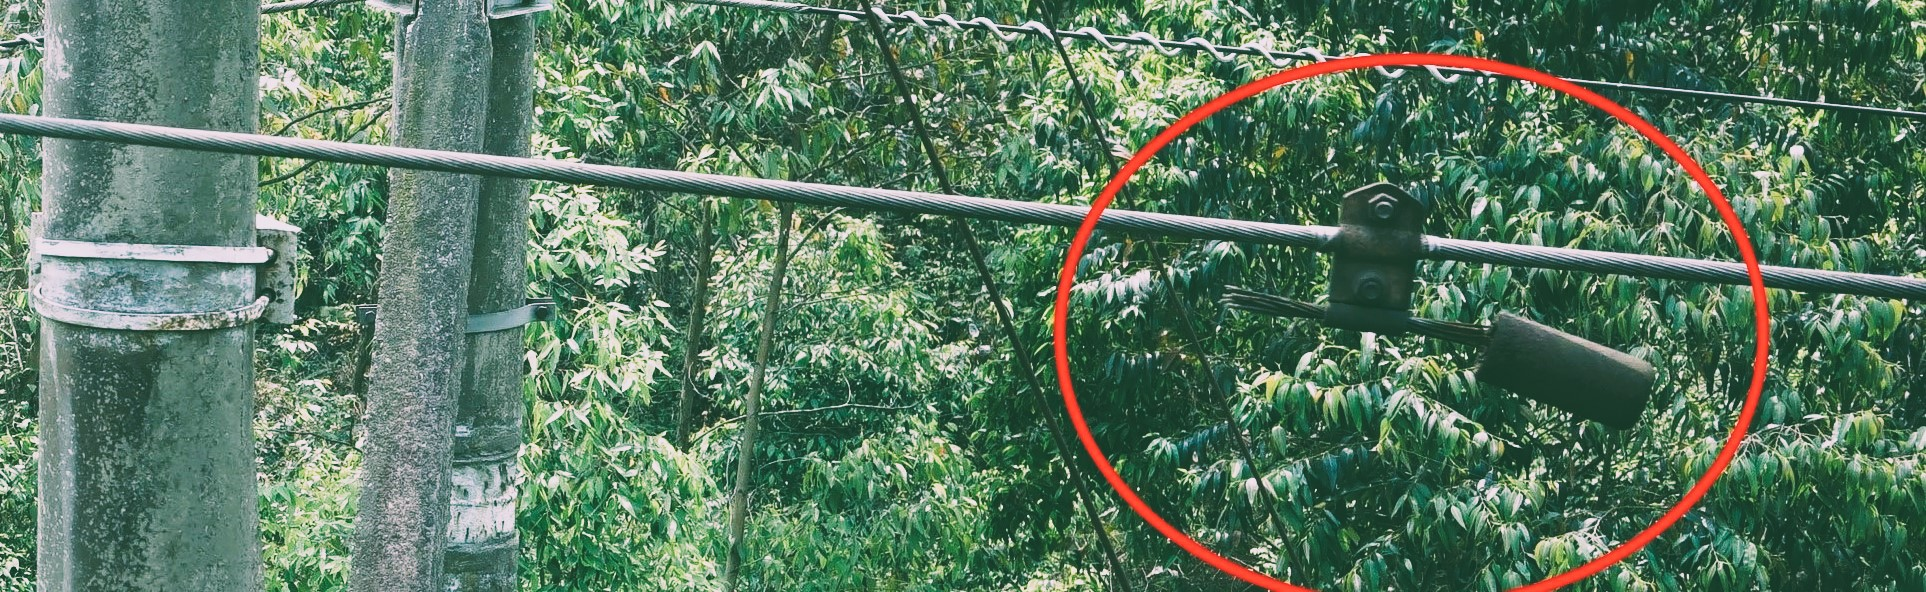Damage of shockproof hammer: (1210, 162, 1679, 457)
